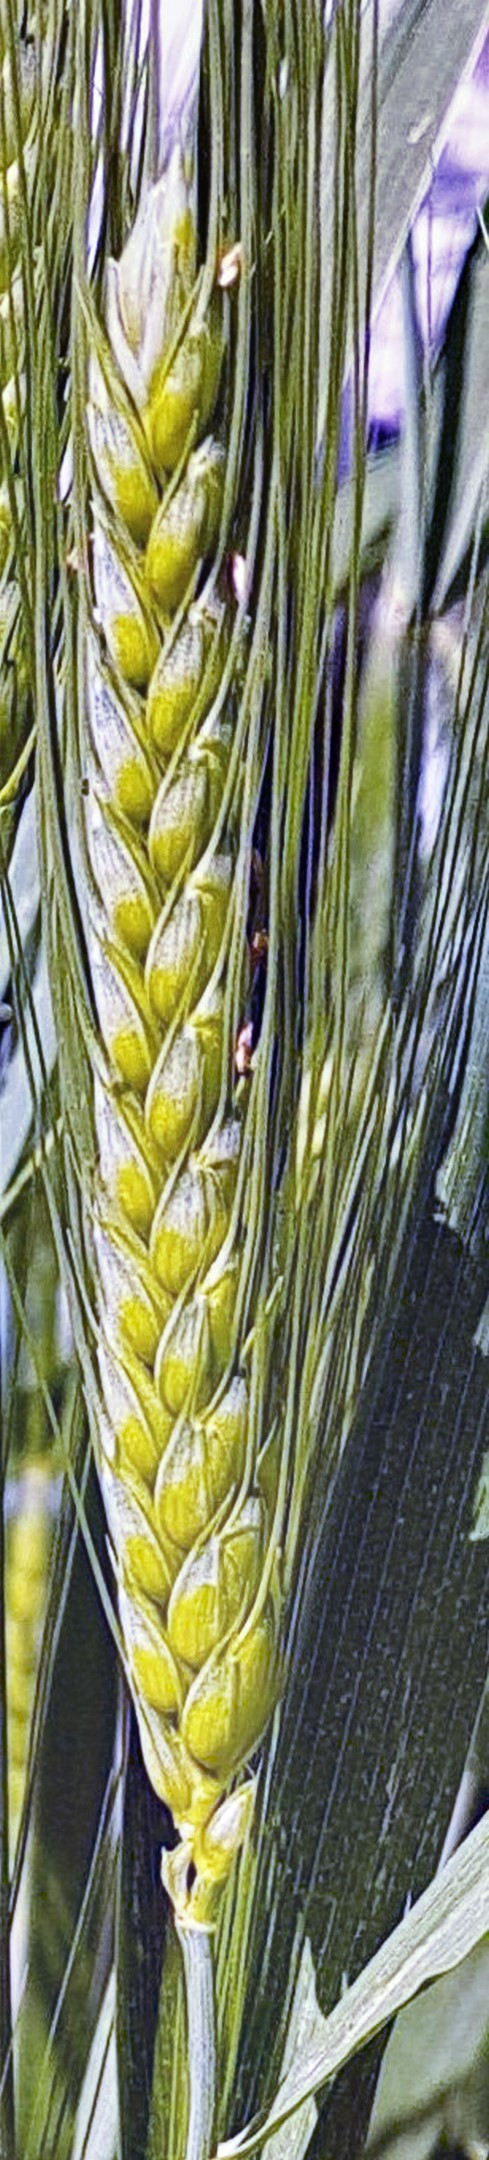Healthy Wheat: (52, 208, 333, 1858)
